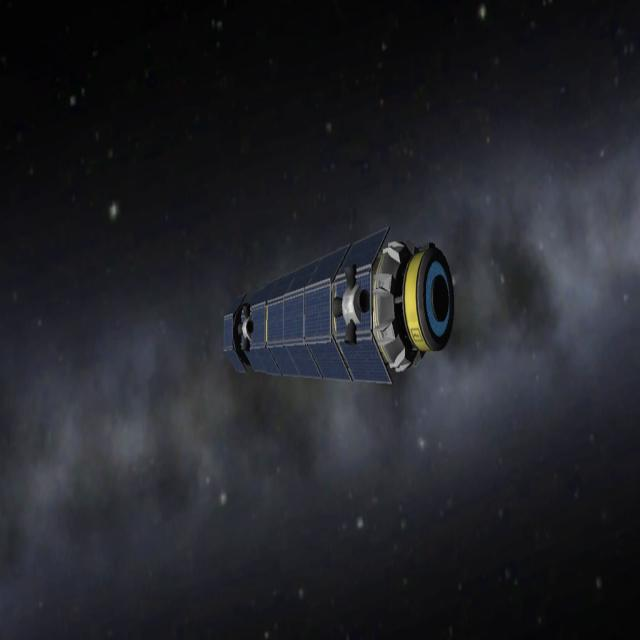medium_debris: (214, 227, 459, 393)
